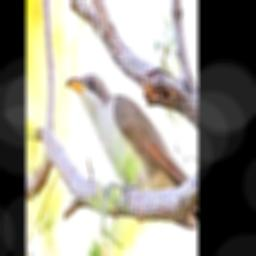Cuckoo: (66, 74, 191, 203)
